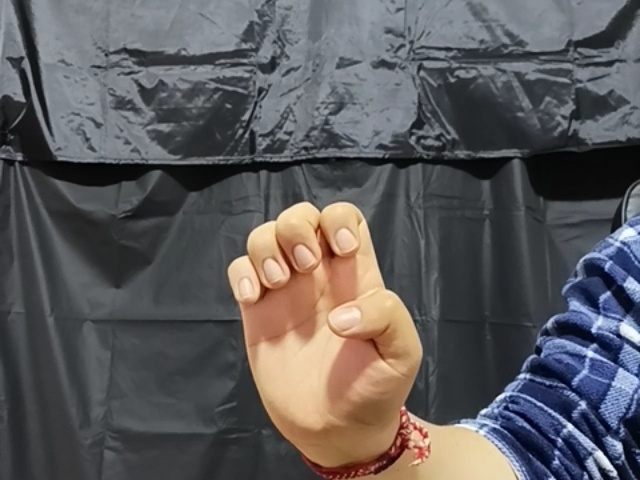E: (226, 196, 427, 444)
